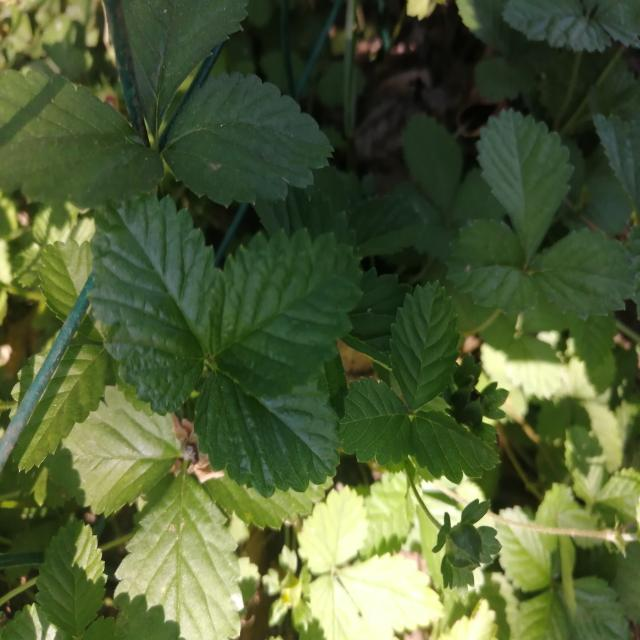Mock_strawberry: (75, 204, 370, 479), (358, 294, 512, 463)
